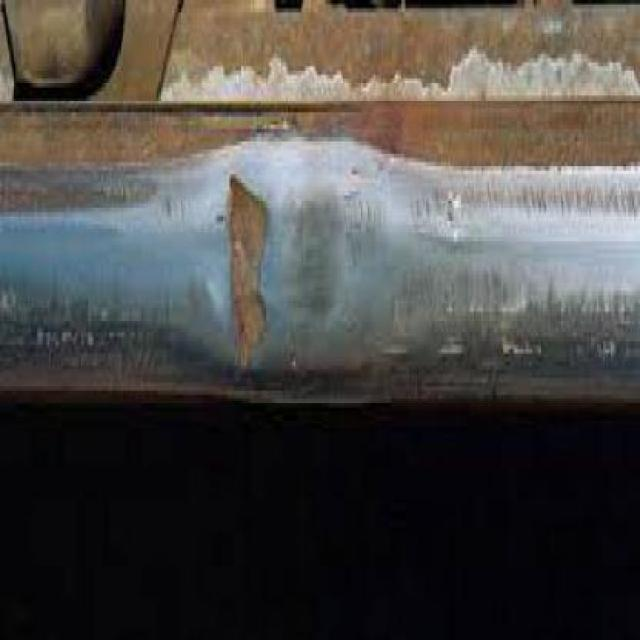defective: (149, 85, 640, 420)
